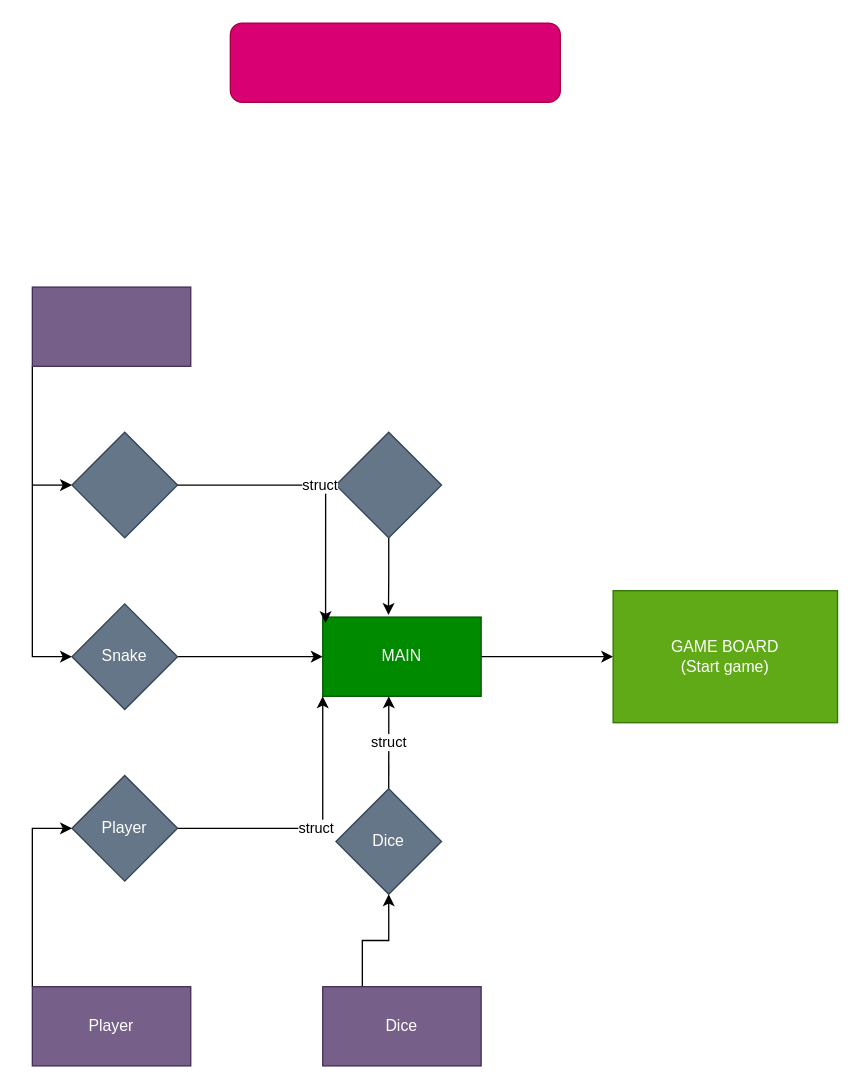
Some shapes in this 861 by 1089 pixel diagram are drawn without their labels. The centre of each missing label's shape, as x and y in pixels:
CODE FLOW: point (394, 62)
Jumper: point (111, 326)
Ladder: point (124, 484)
Postion Map: point (388, 484)
